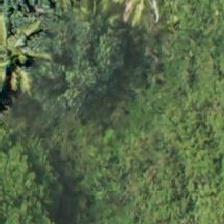coconut_tree: (0, 19, 46, 109)
